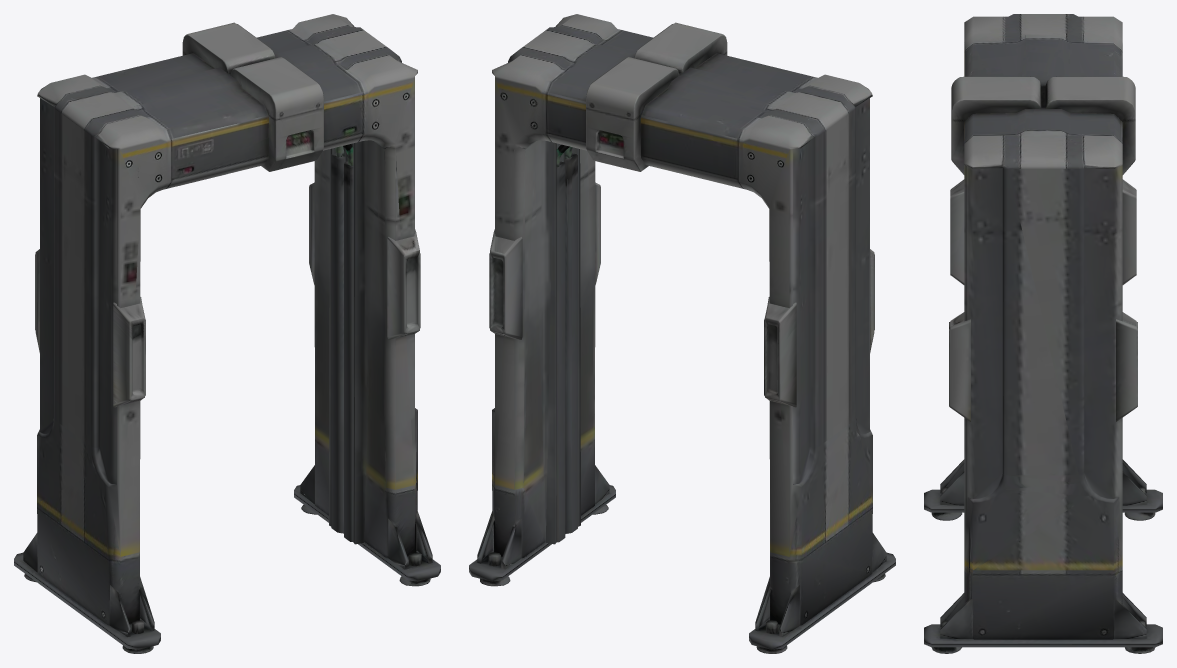
File: arco_seguranca.glb
The picture shows the model from 3 angles, left to right: view 1: azimuth 30°, elevation 25°; view 2: azimuth 150°, elevation 25°; view 3: azimuth 270°, elevation 25°; orthographic projection.
Parts seen in each view (by area): view 1: Arco de segurança; view 2: Arco de segurança; view 3: Arco de segurança.
Boxes of the visible parts, x1,y1,x2,y2 form: Arco de segurança: (14,14,440,653); Arco de segurança: (469,14,895,653); Arco de segurança: (924,14,1162,653).
Bounding box in the file's own units: 0.6387 × 0.998 × 0.4277.
Materials: 1 (1 with a texture image).
